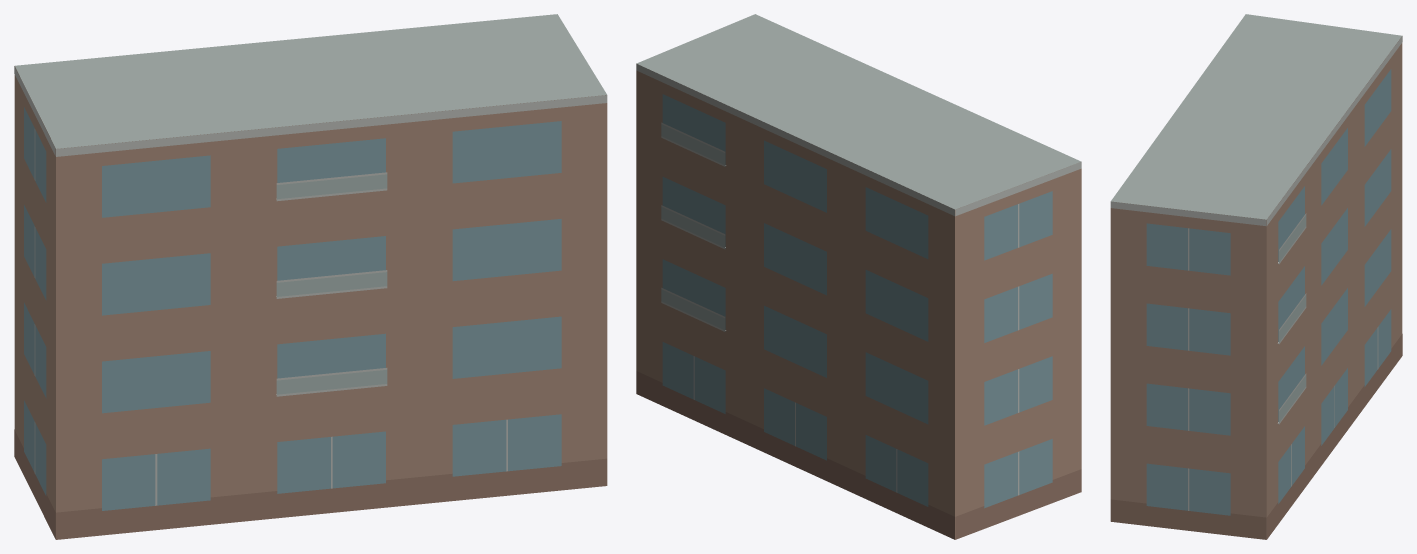
File: survey-upis-32892877.glb
The picture shows the model from 3 angles, left to right: view 1: azimuth 30°, elevation 25°; view 2: azimuth 150°, elevation 25°; view 3: azimuth 270°, elevation 25°; orthographic projection. The views are drawn at different scales.
Parts seen in each view (by area): view 1: survey-upis-32892877.tmp; view 2: survey-upis-32892877.tmp; view 3: survey-upis-32892877.tmp.
Part boxes in pixels (<box>): survey-upis-32892877.tmp: <box>14,14,607,539</box>; survey-upis-32892877.tmp: <box>636,14,1081,539</box>; survey-upis-32892877.tmp: <box>1110,14,1402,539</box>.
Bounding box in the file's own units: 16.26 × 11.8 × 9.75.
